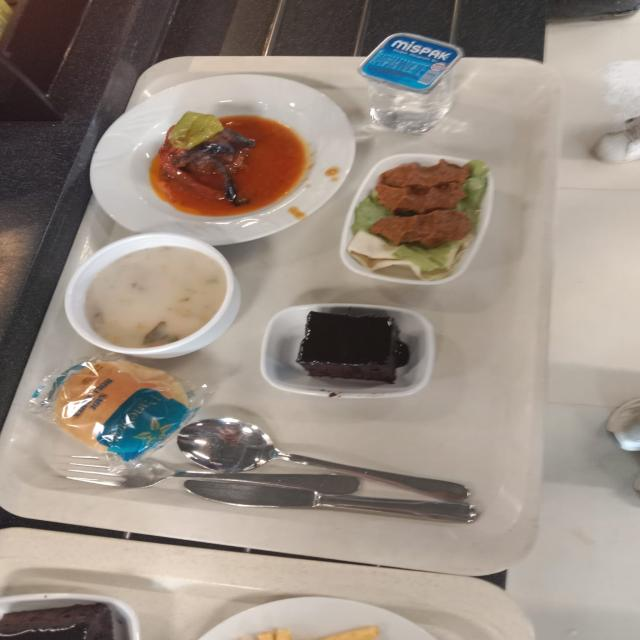ana_yemek: (92, 74, 354, 243)
corba: (62, 234, 238, 352)
yan_yemek: (337, 154, 490, 284), (261, 305, 435, 396)
